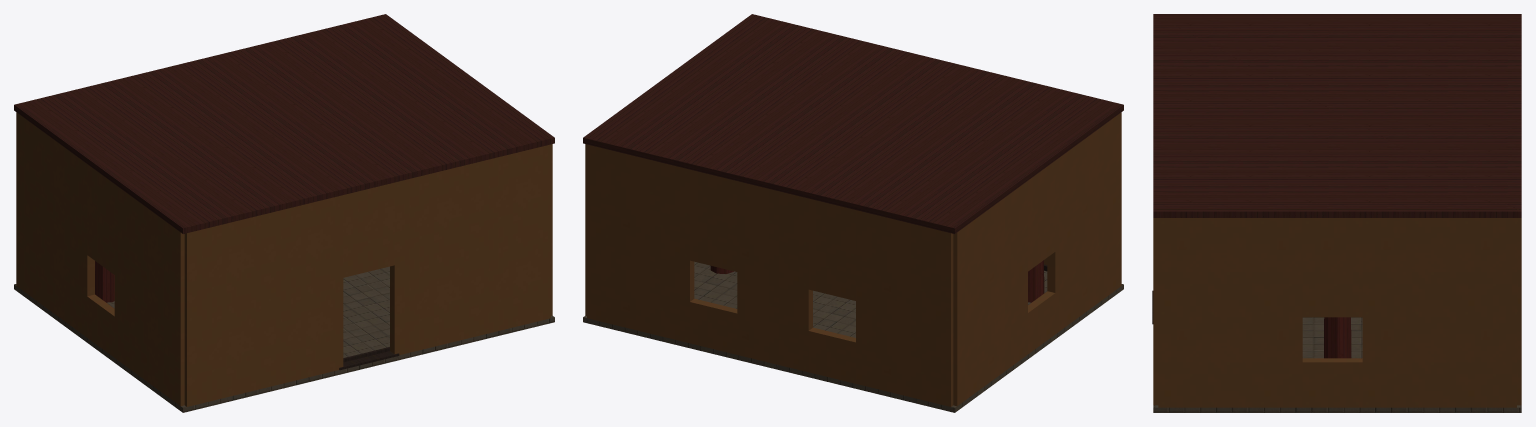
File: int_chinese_hall_01.glb
3 views of the same model, side by side, from view 1: azimuth 30°, elevation 25°; view 2: azimuth 150°, elevation 25°; view 3: azimuth 270°, elevation 25° (orthographic). The views are drawn at different scales.
Parts seen in each view (by area): view 1: int_chinese_hall_01; view 2: int_chinese_hall_01; view 3: int_chinese_hall_01.
Part boxes in pixels (left/top/right/bottom): int_chinese_hall_01: left=14, top=14, right=554, bottom=412; int_chinese_hall_01: left=583, top=14, right=1123, bottom=412; int_chinese_hall_01: left=1152, top=14, right=1521, bottom=412.
Bounding box in the file's own units: 9.4 × 4.46 × 7.42.
Materials: 6 (6 with a texture image).
